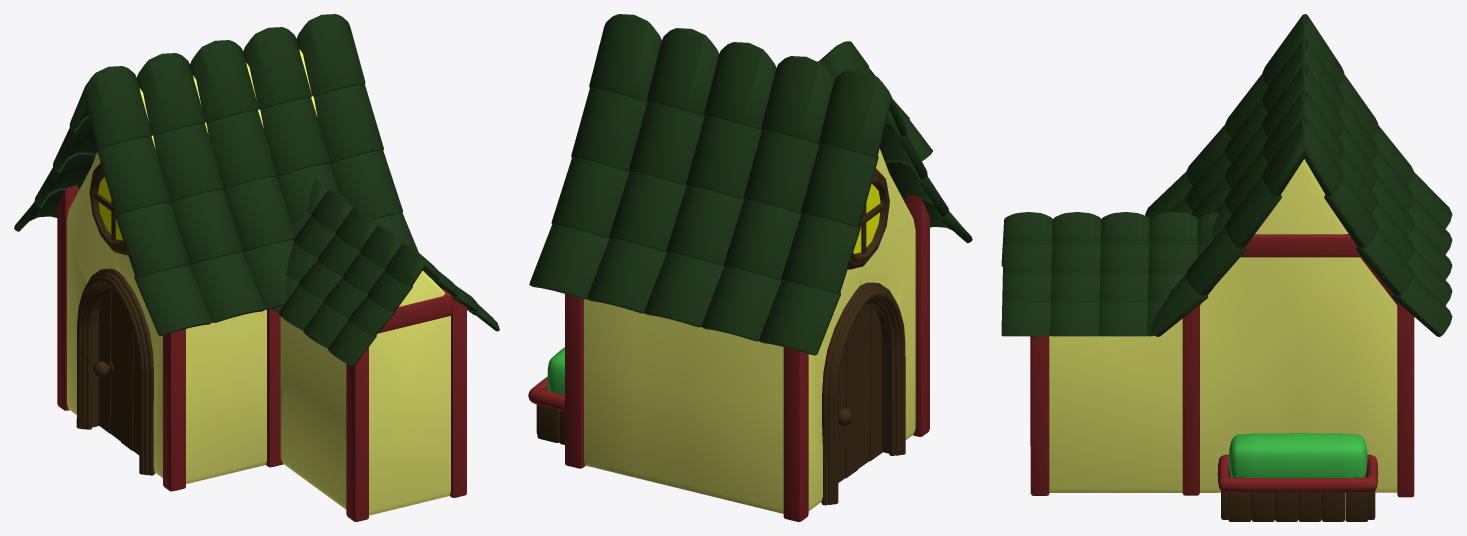
The model's file is House.fbx.
The picture shows the model from 3 angles, left to right: view 1: azimuth 30°, elevation 25°; view 2: azimuth 150°, elevation 25°; view 3: azimuth 270°, elevation 25°; orthographic projection. The views are drawn at different scales.
Visible parts, largest first — view 1: Roof, Walls, Columns, Door, Window_Glass; view 2: Roof, Walls, Door, Columns, Window_Glass, PlantPot_Pot, PlantPot_Border, Window_Frame, PlantPot_Bush; view 3: Roof, Walls, Columns, PlantPot_Bush, PlantPot_Pot, PlantPot_Border.
Part boxes in pixels (x1,y1,x2,y2): Roof: [14, 14, 499, 366]; Walls: [67, 49, 450, 515]; Columns: [57, 185, 466, 521]; Door: [76, 268, 155, 475]; Window_Glass: [89, 163, 127, 255]; Roof: [529, 14, 972, 355]; Walls: [584, 148, 915, 513]; Door: [821, 282, 905, 505]; Columns: [565, 195, 929, 521]; Window_Glass: [848, 168, 889, 269]; PlantPot_Pot: [536, 387, 564, 444]; PlantPot_Border: [528, 377, 564, 411]; Window_Frame: [853, 184, 880, 253]; PlantPot_Bush: [547, 347, 564, 395]; Roof: [1001, 14, 1452, 336]; Walls: [1049, 159, 1397, 492]; Columns: [1030, 234, 1414, 497]; PlantPot_Bush: [1228, 433, 1367, 477]; PlantPot_Pot: [1221, 468, 1375, 521]; PlantPot_Border: [1217, 454, 1378, 492].
Size of the model in its own units: 61.3 by 73.46 by 80.27.
